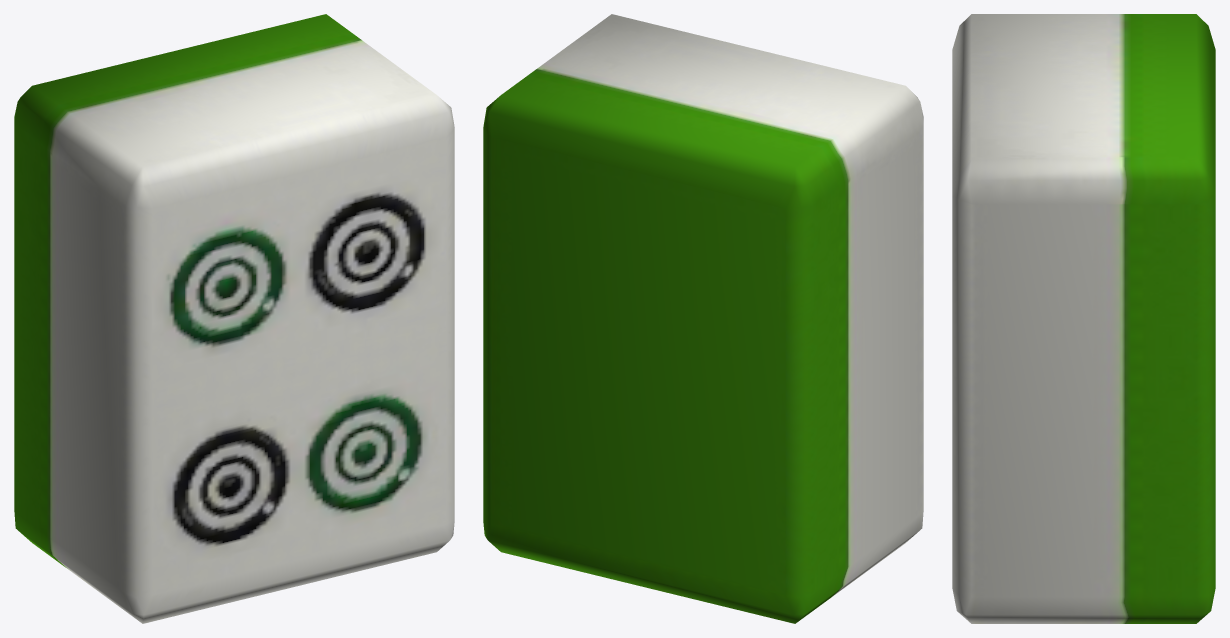
The model's file is mj_tong4.FBX.
3 views of the same model, side by side, from view 1: azimuth 30°, elevation 25°; view 2: azimuth 150°, elevation 25°; view 3: azimuth 270°, elevation 25° (orthographic).
Parts seen in each view (by area): view 1: default107; view 2: default107; view 3: default107.
Boxes of the visible parts, <box> form: default107: <box>14,14,454,623</box>; default107: <box>483,14,923,623</box>; default107: <box>952,14,1215,623</box>.
Size of the model in its own units: 0.0339 by 0.045 by 0.0232.
Materials: 1 (1 with a texture image).
